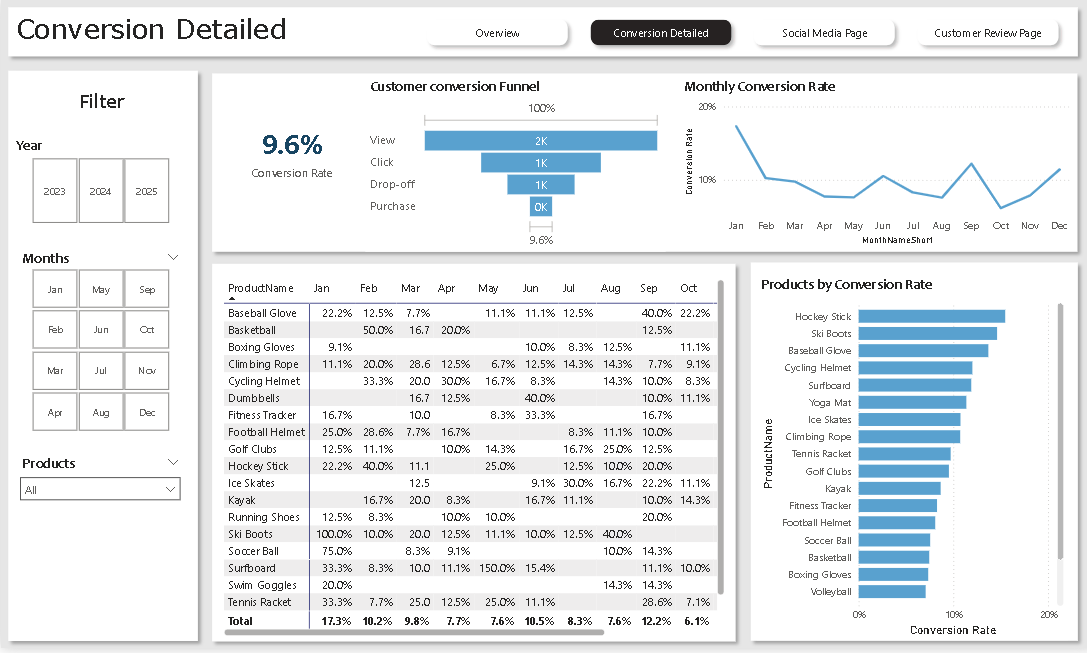

The dashboard page shown, as its layout file describes it:
{"tool":"powerbi","page":{"name":"Conversion Detailed","canvas":[1350,800],"ordinal":1},"visuals":[{"type":"shape","box":[0,78,252,722],"z":0},{"type":"shape","box":[252,82,1086,238],"z":1000},{"type":"shape","box":[252,316,664,484],"z":2000},{"type":"shape","box":[916.7,315,421.7,485],"z":3000},{"type":"lineChart","title":"Monthly Conversion Rate","fields":{"Y":["_Calculation.Conversion Rate"],"Category":["Calendar.MonthNameShort"]},"box":[838,96,488,210],"z":4000},{"type":"barChart","title":"Products by Conversion Rate","fields":{"Category":["dim_products.ProductName"],"Y":["_Calculation.Conversion Rate"]},"box":[933.3,340,383.3,450],"z":5000},{"type":"shape","box":[0,0,1338.3,78.3],"z":6000},{"type":"textbox","title":"Conversion Detailed ","box":[13.3,15,436.7,50],"z":7000},{"type":"pivotTable","fields":{"Columns":["Calendar.MonthNameShort"],"Rows":["dim_products.ProductName"],"Values":["_Calculation.Conversion Rate"]},"box":[270,340,628,450],"z":8000},{"type":"funnel","title":"Customer conversion Funnel","fields":{"Y":["_Calculation.Num of Customer Journey"],"Category":["fact_customer_journey.Action"]},"box":[450,96,370,214],"z":9000},{"type":"pageNavigator","box":[516.7,15,800,50],"z":10000},{"type":"slicer","title":"Year","fields":{"Values":["Calendar.Year"]},"box":[13.3,168.3,218.3,113.3],"z":11000},{"type":"slicer","fields":{"Values":["Calendar.MonthNameShort"]},"box":[13.3,303.3,218.3,235],"z":12000},{"type":"slicer","fields":{"Values":["dim_products.ProductName"]},"box":[13.3,556.7,218.3,73.3],"z":13000},{"type":"cardVisual","fields":{"Data":["_Calculation.Conversion Rate"]},"box":[270,126.7,180,123.3],"z":14000},{"type":"textbox","title":"Filter","box":[46.7,108.3,155,38.3],"z":14001}]}

Visuals, with their boxes in screenshot pixels (x1, y1, x2, y2), scaled from the page's 1350x800 canvas onto the 1087x653 screenshot:
shape: left=0, top=64, right=203, bottom=652
shape: left=203, top=67, right=1077, bottom=261
shape: left=203, top=258, right=738, bottom=652
shape: left=738, top=257, right=1078, bottom=652
"Monthly Conversion Rate" lineChart: left=675, top=78, right=1068, bottom=250
"Products by Conversion Rate" barChart: left=751, top=278, right=1060, bottom=645
shape: left=0, top=0, right=1078, bottom=64
"Conversion Detailed " textbox: left=11, top=12, right=362, bottom=53
pivotTable - Calendar.MonthNameShort x dim_products.ProductName: left=217, top=278, right=723, bottom=645
"Customer conversion Funnel" funnel: left=362, top=78, right=660, bottom=253
pageNavigator: left=416, top=12, right=1060, bottom=53
"Year" slicer: left=11, top=137, right=186, bottom=230
slicer - Calendar.MonthNameShort: left=11, top=248, right=186, bottom=439
slicer - dim_products.ProductName: left=11, top=454, right=186, bottom=514
cardVisual - _Calculation.Conversion Rate: left=217, top=103, right=362, bottom=204
"Filter" textbox: left=38, top=88, right=162, bottom=120
